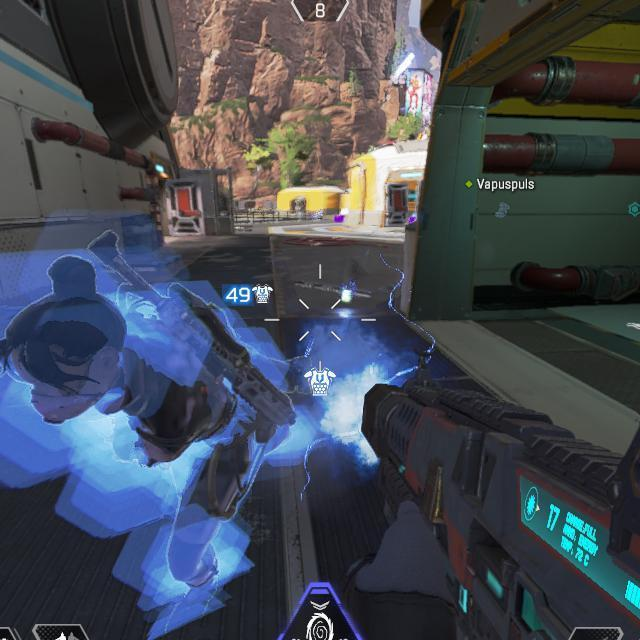avatar: (0, 254, 303, 606)
